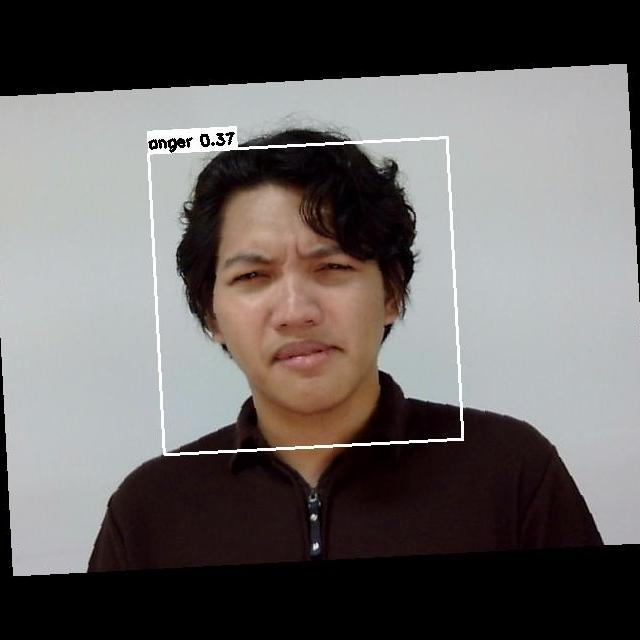Disgust: (211, 228, 399, 385)
